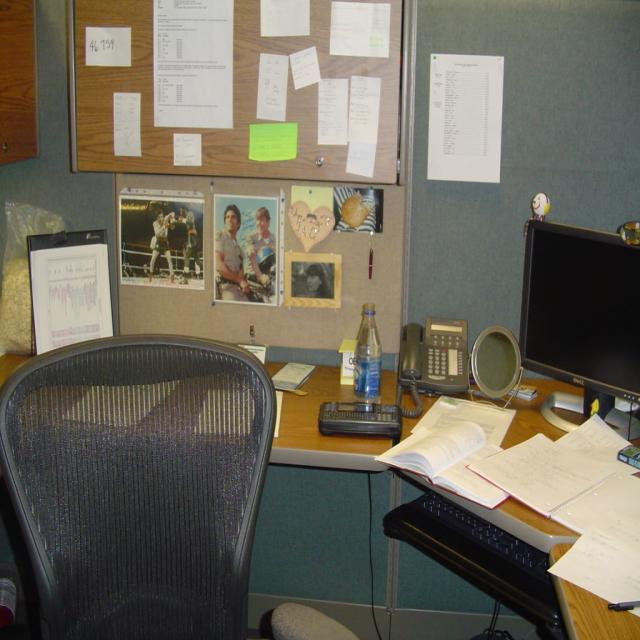chair: (0, 335, 275, 638)
desk: (352, 335, 640, 626)
keyboard: (410, 489, 554, 587)
tv: (518, 219, 640, 403)
